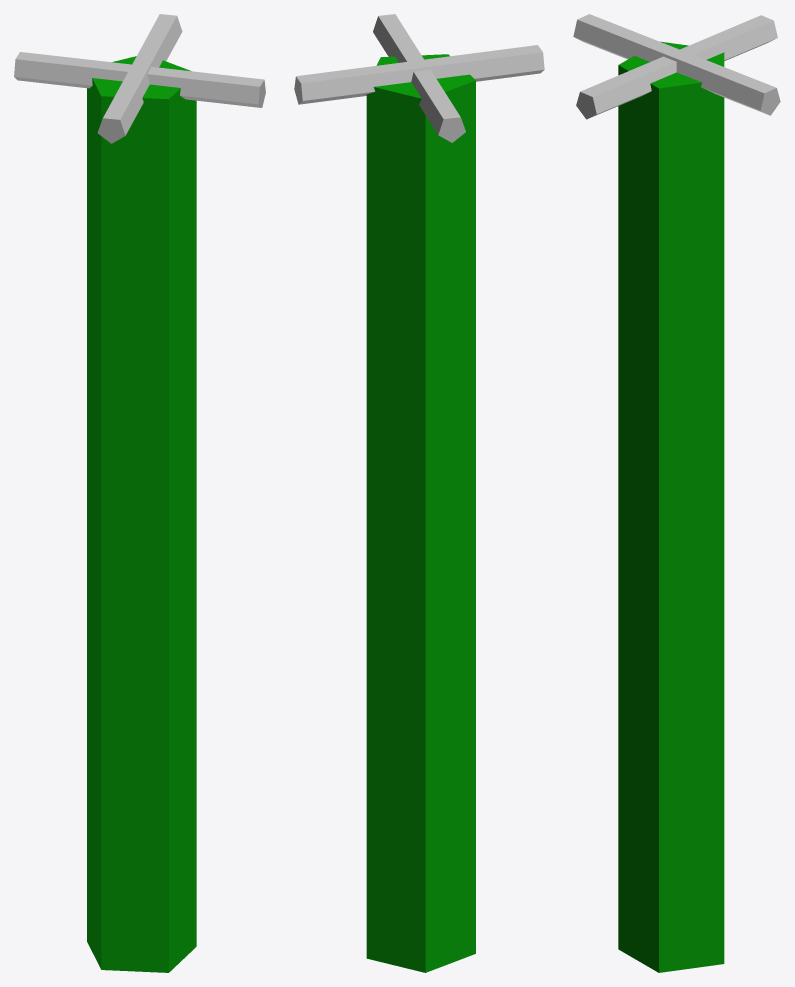
Rendered from arrow.obj.
3 renders of one model, left to right at view 1: azimuth 30°, elevation 25°; view 2: azimuth 150°, elevation 25°; view 3: azimuth 270°, elevation 25°, orthographic.
Parts seen in each view (by area): view 1: Cylinder_Cylinder_Material.001, Cylinder.001_Cylinder.002_None, Cylinder.002_Cylinder.003_None; view 2: Cylinder_Cylinder_Material.001, Cylinder.002_Cylinder.003_None, Cylinder.001_Cylinder.002_None; view 3: Cylinder_Cylinder_Material.001, Cylinder.002_Cylinder.003_None, Cylinder.001_Cylinder.002_None.
Part boxes in pixels (x1,y1,x2,y2): Cylinder_Cylinder_Material.001: (87,56,196,972); Cylinder.001_Cylinder.002_None: (14,52,265,107); Cylinder.002_Cylinder.003_None: (97,14,182,143); Cylinder_Cylinder_Material.001: (366,54,475,972); Cylinder.002_Cylinder.003_None: (294,45,544,104); Cylinder.001_Cylinder.002_None: (373,14,465,142); Cylinder_Cylinder_Material.001: (618,41,724,972); Cylinder.002_Cylinder.003_None: (573,14,780,115); Cylinder.001_Cylinder.002_None: (576,15,777,119).
Bounding box in the file's own units: 0.2068 × 1.01 × 0.2125.
